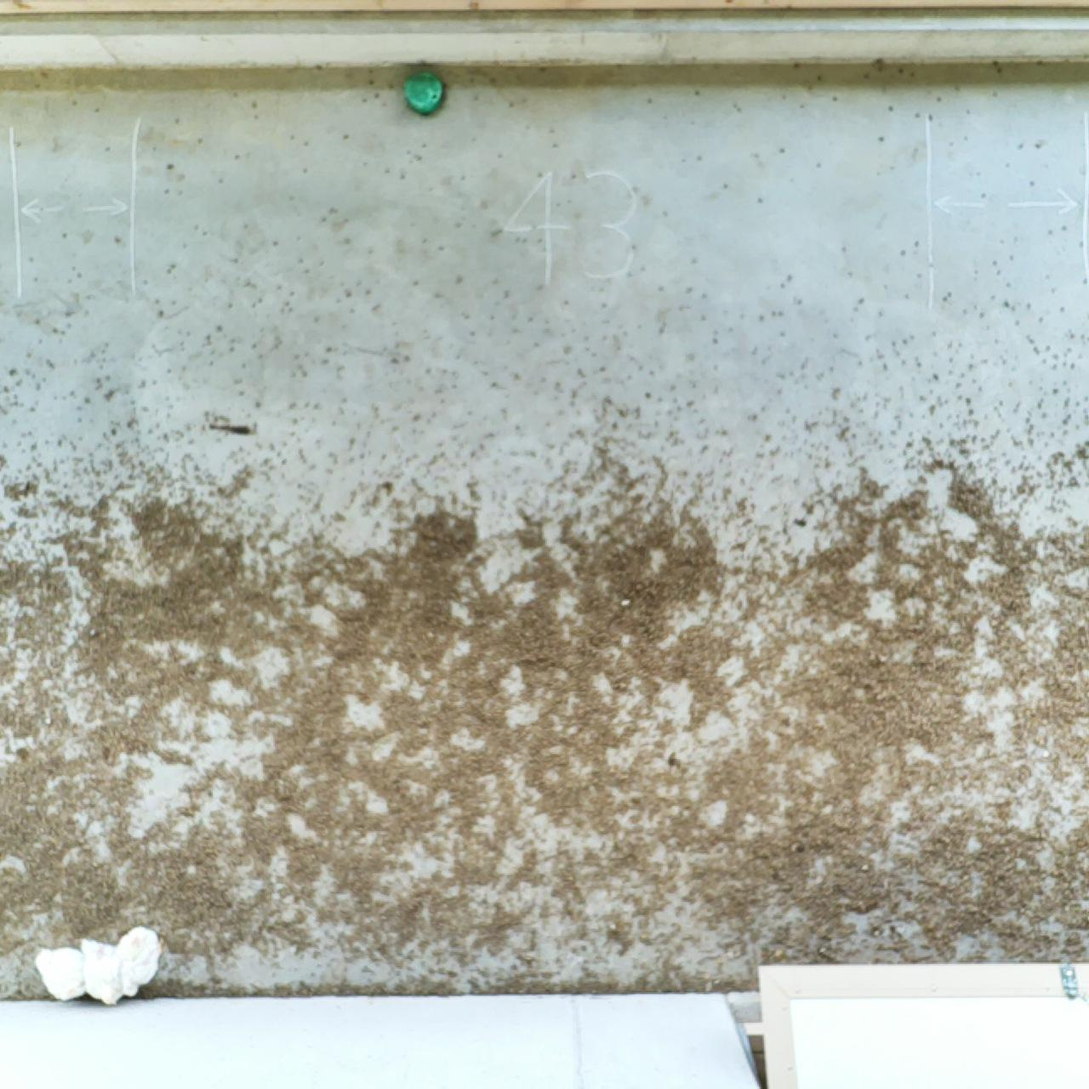chicken: (111, 923, 166, 1002), (73, 934, 128, 1008), (34, 942, 90, 1005)
